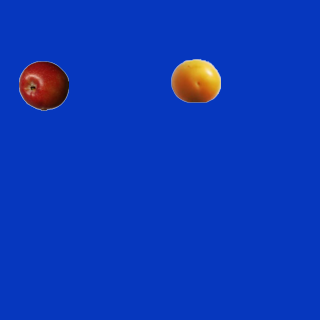Apple Braeburn: (18, 60, 68, 110)
Cherry Wax Yellow: (170, 55, 220, 105)
